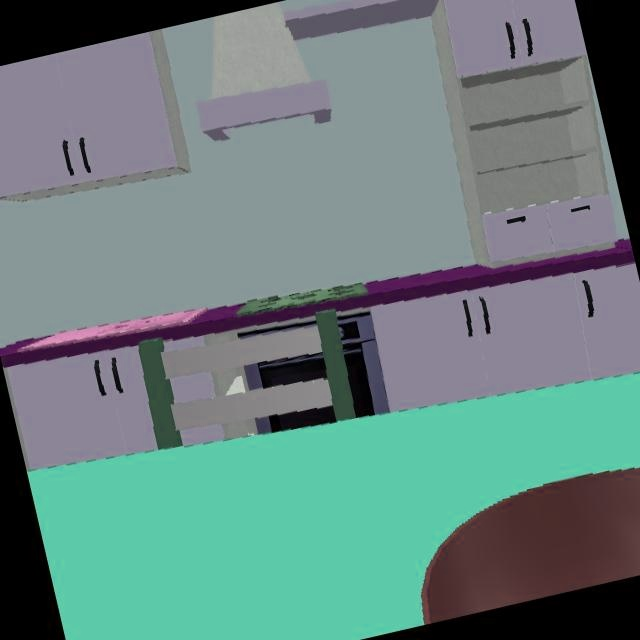cabinet: (285, 0, 617, 270), (369, 260, 640, 414), (0, 28, 192, 202), (3, 345, 158, 470), (171, 366, 249, 404), (181, 419, 258, 448), (164, 329, 239, 353)
chair: (138, 310, 355, 450)
countertop: (0, 240, 635, 368)
oven: (338, 312, 391, 418), (243, 352, 328, 392), (255, 405, 337, 435), (238, 317, 317, 340)
stove: (237, 282, 368, 315)
table: (27, 372, 640, 640)
